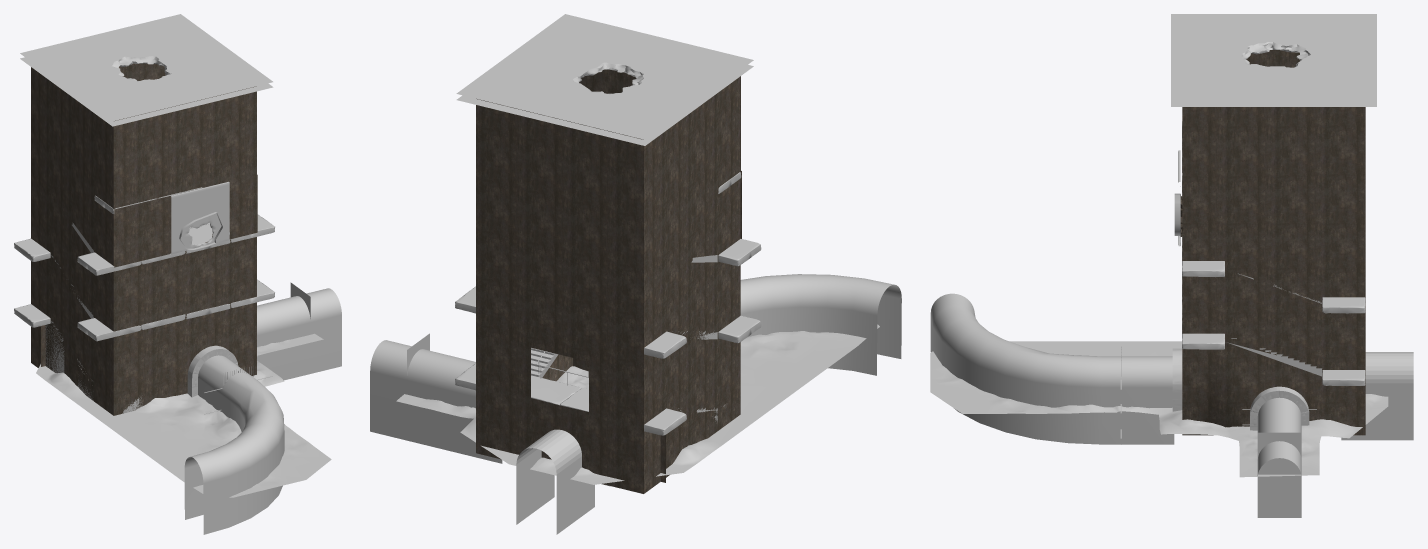
File: Stairwell00.fbx
The picture shows the model from 3 angles, left to right: view 1: azimuth 30°, elevation 25°; view 2: azimuth 150°, elevation 25°; view 3: azimuth 270°, elevation 25°; orthographic projection. The views are drawn at different scales.
Parts seen in each view (by area): view 1: LODGroup_1_MainMesh_1_SubMesh_3, LODGroup_1_MainMesh_1_SubMesh_12, LODGroup_1_MainMesh_1_SubMesh_11, LODGroup_1_MainMesh_1_SubMesh_1, LODGroup_1_MainMesh_1_SubMesh_7, LODGroup_1_MainMesh_1_SubMesh_10, LODGroup_1_MainMesh_1_SubMesh_5, LODGroup_1_MainMesh_1_SubMesh_14; view 2: LODGroup_1_MainMesh_1_SubMesh_3, LODGroup_1_MainMesh_1_SubMesh_12, LODGroup_1_MainMesh_1_SubMesh_11, LODGroup_1_MainMesh_1_SubMesh_1, LODGroup_1_MainMesh_1_SubMesh_7, LODGroup_1_MainMesh_1_SubMesh_5; view 3: LODGroup_1_MainMesh_1_SubMesh_3, LODGroup_1_MainMesh_1_SubMesh_12, LODGroup_1_MainMesh_1_SubMesh_11, LODGroup_1_MainMesh_1_SubMesh_1, LODGroup_1_MainMesh_1_SubMesh_7, LODGroup_1_MainMesh_1_SubMesh_14, LODGroup_1_MainMesh_1_SubMesh_10, LODGroup_1_MainMesh_1_SubMesh_5.
Part boxes in pixels (x1,y1,x2,y2): LODGroup_1_MainMesh_1_SubMesh_3: [31, 63, 257, 415]; LODGroup_1_MainMesh_1_SubMesh_12: [184, 282, 341, 534]; LODGroup_1_MainMesh_1_SubMesh_11: [20, 14, 273, 126]; LODGroup_1_MainMesh_1_SubMesh_1: [36, 333, 331, 497]; LODGroup_1_MainMesh_1_SubMesh_7: [14, 187, 274, 341]; LODGroup_1_MainMesh_1_SubMesh_10: [112, 56, 229, 254]; LODGroup_1_MainMesh_1_SubMesh_5: [45, 222, 209, 413]; LODGroup_1_MainMesh_1_SubMesh_14: [187, 345, 238, 397]; LODGroup_1_MainMesh_1_SubMesh_3: [476, 69, 741, 493]; LODGroup_1_MainMesh_1_SubMesh_12: [370, 274, 901, 534]; LODGroup_1_MainMesh_1_SubMesh_11: [456, 14, 753, 145]; LODGroup_1_MainMesh_1_SubMesh_1: [396, 324, 879, 484]; LODGroup_1_MainMesh_1_SubMesh_7: [455, 172, 761, 435]; LODGroup_1_MainMesh_1_SubMesh_5: [531, 255, 725, 422]; LODGroup_1_MainMesh_1_SubMesh_3: [1180, 50, 1365, 435]; LODGroup_1_MainMesh_1_SubMesh_12: [930, 293, 1413, 517]; LODGroup_1_MainMesh_1_SubMesh_11: [1171, 14, 1376, 106]; LODGroup_1_MainMesh_1_SubMesh_1: [930, 341, 1388, 477]; LODGroup_1_MainMesh_1_SubMesh_7: [1182, 121, 1365, 385]; LODGroup_1_MainMesh_1_SubMesh_14: [1172, 348, 1309, 430]; LODGroup_1_MainMesh_1_SubMesh_10: [1178, 42, 1310, 246]; LODGroup_1_MainMesh_1_SubMesh_5: [1227, 273, 1322, 376].
Bounding box in the file's own units: 3197 × 3621 × 4220.
